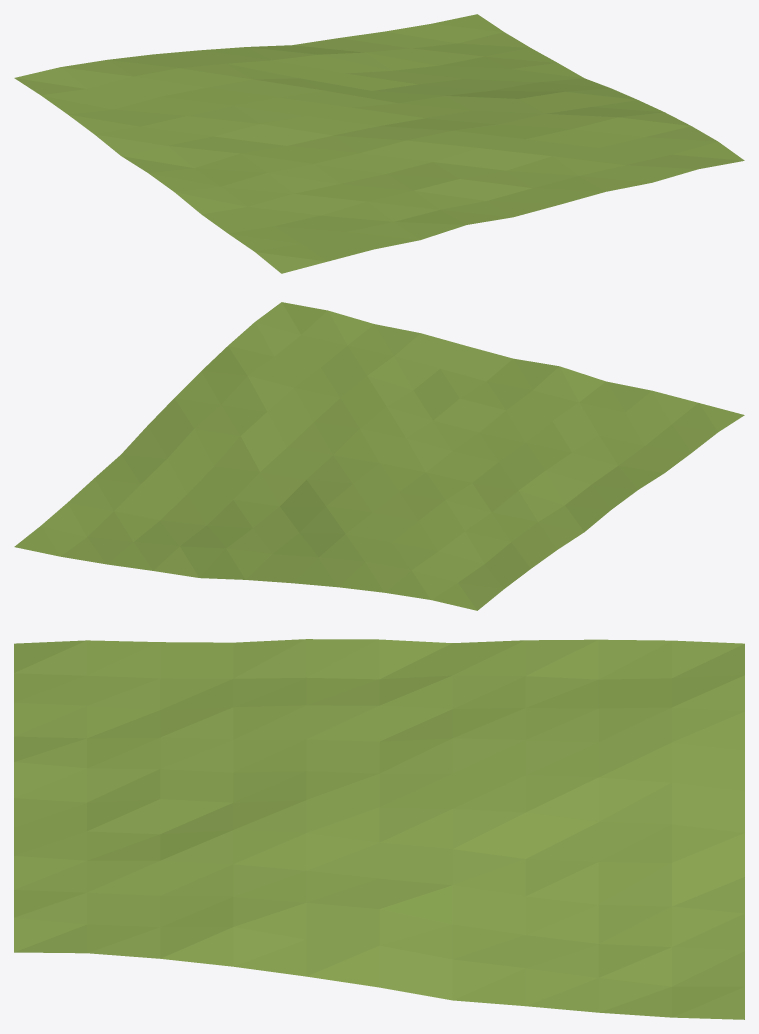
File: terrain-plane_03-1.fbx
3 views of the same model, one above another, from view 1: azimuth 30°, elevation 25°; view 2: azimuth 150°, elevation 25°; view 3: azimuth 270°, elevation 25° (orthographic). The views are drawn at different scales.
Visible parts, largest first — view 1: terrain-plane_03-1; view 2: terrain-plane_03-1; view 3: terrain-plane_03-1.
Part boxes in pixels (left/top/right/bottom): terrain-plane_03-1: left=14, top=14, right=744, bottom=273; terrain-plane_03-1: left=14, top=302, right=744, bottom=610; terrain-plane_03-1: left=14, top=639, right=744, bottom=1019.
Size of the model in its own units: 20.01 by 2.18 by 20.
